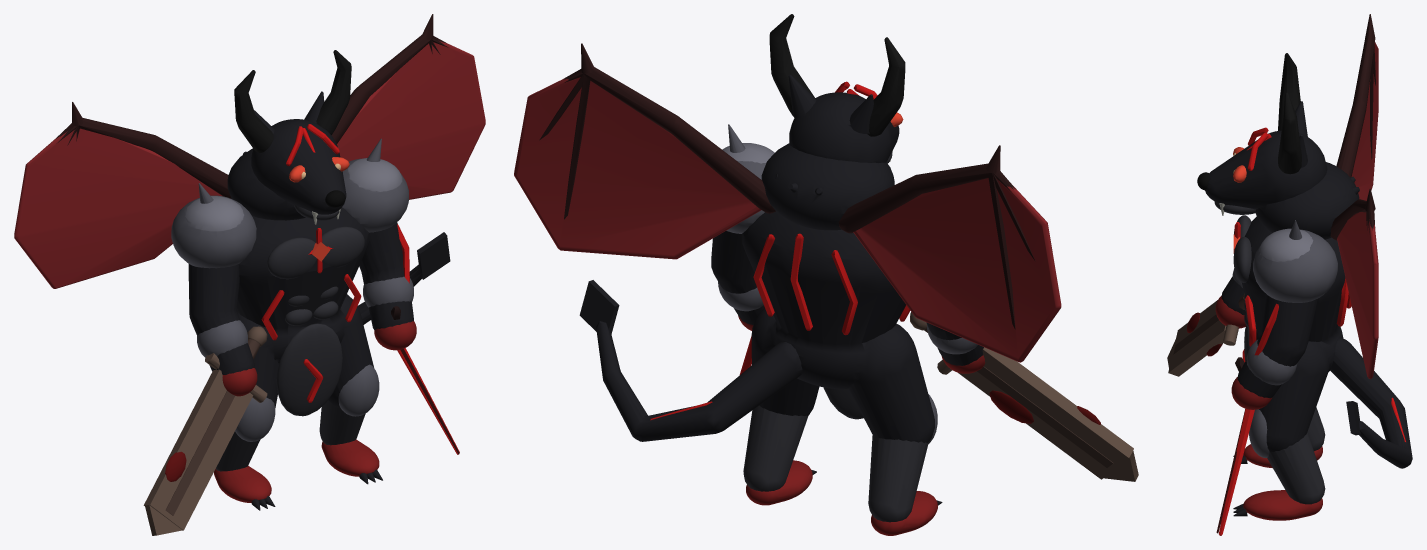
Rendered from astaroth.glb.
The picture shows the model from 3 angles, left to right: view 1: azimuth 30°, elevation 25°; view 2: azimuth 150°, elevation 25°; view 3: azimuth 270°, elevation 25°; orthographic projection. The views are drawn at different scales.
Visible parts, largest first — view 1: creature; view 2: creature; view 3: creature.
Part boxes in pixels (x1=…): creature: x1=14, y1=14, x2=485, y2=535; creature: x1=514, y1=14, x2=1138, y2=535; creature: x1=1167, y1=14, x2=1412, y2=535.
Bounding box in the file's own units: 1.17 × 1 × 0.5328.
